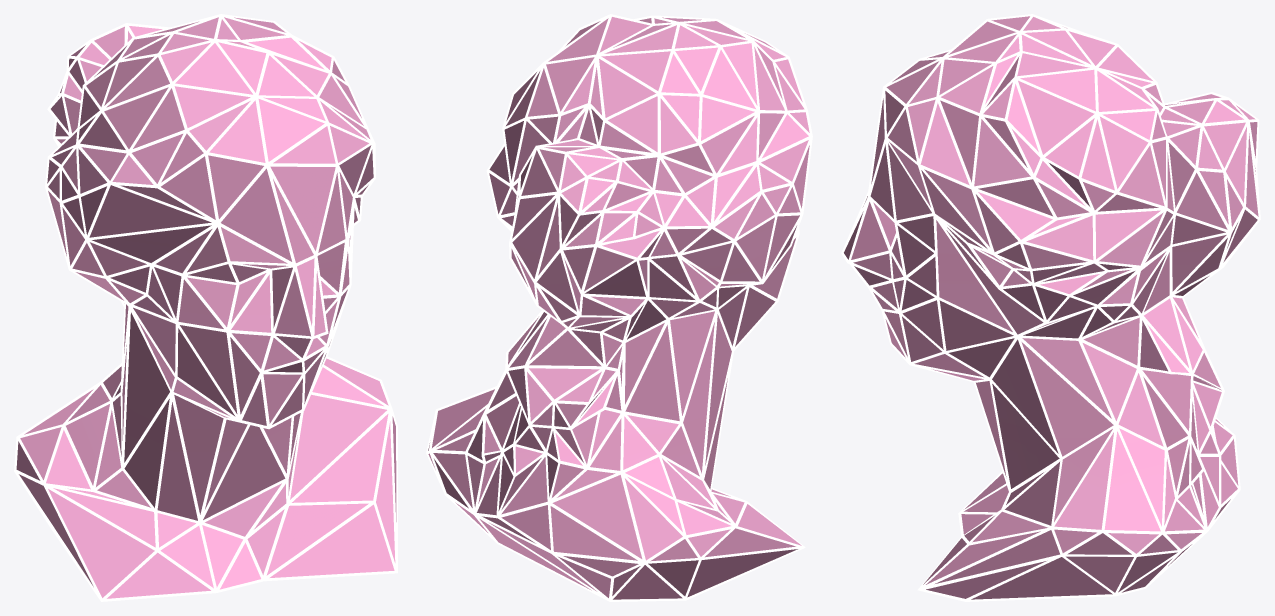
The model's file is Venus_Retro.glb.
The picture shows the model from 3 angles, left to right: view 1: azimuth 30°, elevation 25°; view 2: azimuth 150°, elevation 25°; view 3: azimuth 270°, elevation 25°; orthographic projection. The views are drawn at different scales.
Visible parts, largest first — view 1: Venus_Retro; view 2: Venus_Retro; view 3: Venus_Retro.
Part boxes in pixels (bbox=[...]): Venus_Retro: bbox=[14, 14, 397, 601]; Venus_Retro: bbox=[426, 14, 812, 601]; Venus_Retro: bbox=[841, 14, 1260, 601].
Size of the model in its own units: 2.48 by 3.68 by 2.8.
2 materials, 2 textured.
